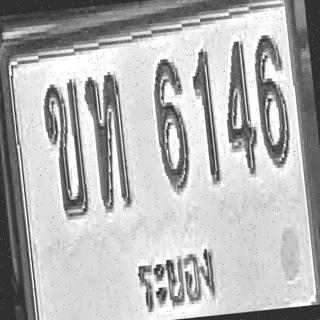A02: (40, 76, 90, 220)
A23: (82, 70, 133, 210)
N01: (188, 46, 222, 184)
N04: (218, 37, 259, 176)
N06: (150, 56, 192, 192), (250, 30, 292, 166)
P53: (128, 228, 220, 318)
